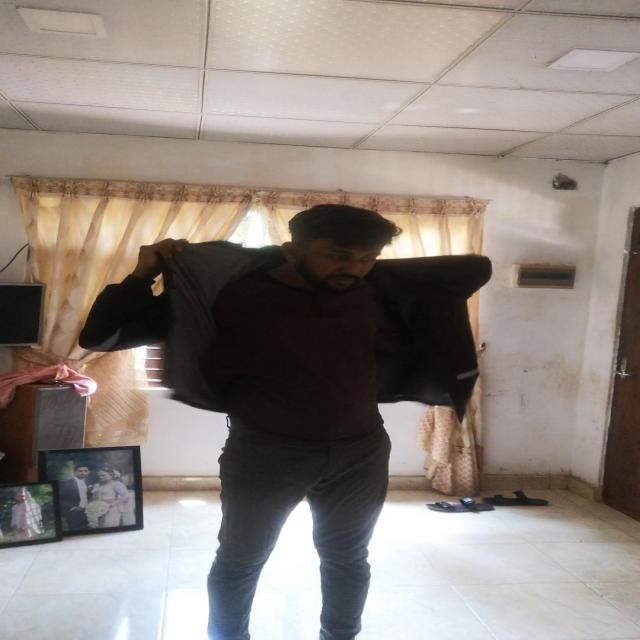Jacket_Wearer: (86, 237, 501, 421)
Person: (86, 190, 501, 639)
